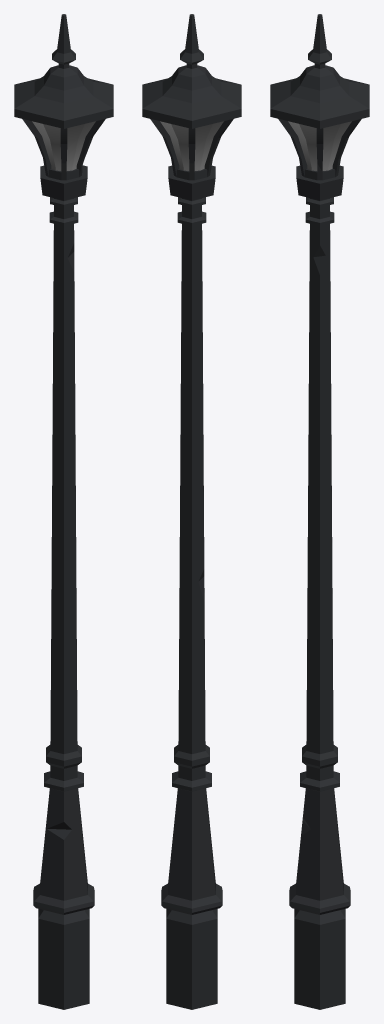
File: park_lamp.glb
The picture shows the model from 3 angles, left to right: view 1: azimuth 30°, elevation 25°; view 2: azimuth 210°, elevation 25°; view 3: azimuth 330°, elevation 25°; orthographic projection.
Parts seen in each view (by area): view 1: SM_Env_Park_Lamp_01; view 2: SM_Env_Park_Lamp_01; view 3: SM_Env_Park_Lamp_01.
Part boxes in pixels (<box>): SM_Env_Park_Lamp_01: <box>14,14,113,1009</box>; SM_Env_Park_Lamp_01: <box>142,14,241,1009</box>; SM_Env_Park_Lamp_01: <box>270,14,369,1009</box>.
Bounding box in the file's own units: 0.4536 × 4.27 × 0.3924.
1 material, 1 textured.
